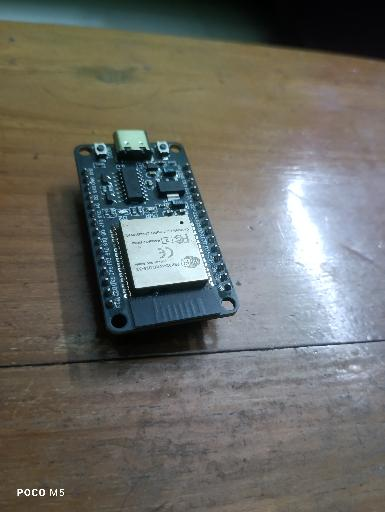Esp32: (73, 129, 240, 334)
